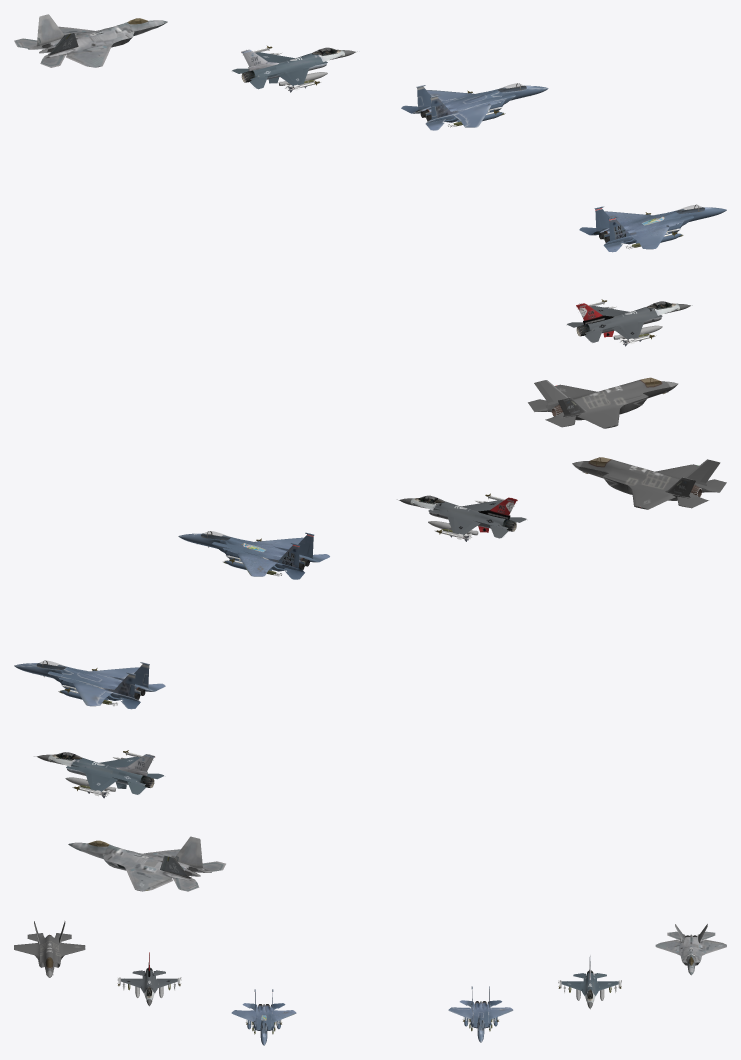
3 views of the same model, one above another, from view 1: azimuth 30°, elevation 25°; view 2: azimuth 150°, elevation 25°; view 3: azimuth 270°, elevation 25° (orthographic). The views are drawn at different scales.
Parts seen in each view (by area): view 1: fuselage.001, Cylinder, 立方体, 立方体.002, 円柱.004, 円柱.019; view 2: fuselage.001, Cylinder, 立方体, 立方体.002, 円柱.019, 円柱.004; view 3: fuselage.001, Cylinder, 立方体, 立方体.002, 円柱.019, 円柱.004.
Boxes of the visible parts, x1,y1,x2,y2 form: fuselage.001: (528,377,678,428); Cylinder: (14,14,167,67); 立方体: (579,204,726,252); 立方体.002: (401,83,548,130); 円柱.004: (232,46,357,92); 円柱.019: (567,299,692,346); fuselage.001: (572,457,726,509); Cylinder: (68,836,225,891); 立方体: (178,531,329,579); 立方体.002: (14,660,165,709); 円柱.019: (397,493,526,541); 円柱.004: (34,750,163,798); fuselage.001: (14,921,85,977); Cylinder: (655,924,726,975); 立方体: (231,989,296,1045); 立方体.002: (448,986,513,1042); 円柱.019: (117,952,181,1006); 円柱.004: (558,955,621,1009).
Bounding box in the file's own units: 48.54 × 4.98 × 128.
Materials: 111 (31 with a texture image).
